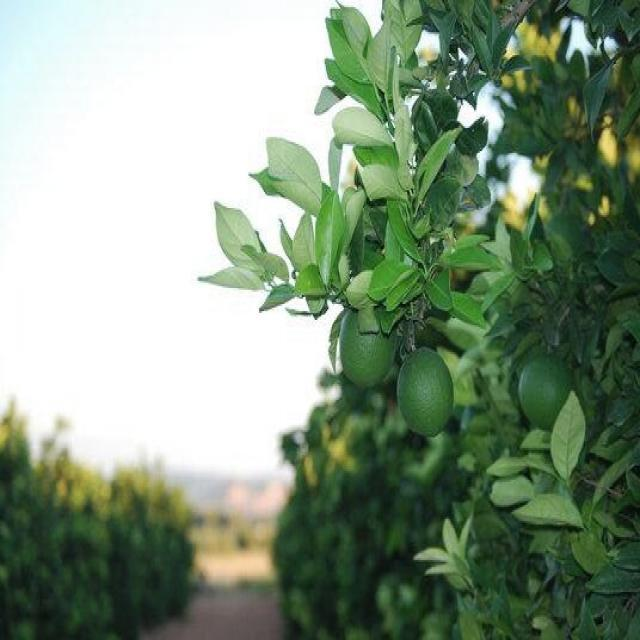Jeruk Belum Matang: (399, 346, 455, 439), (517, 354, 573, 431), (341, 309, 396, 386)
